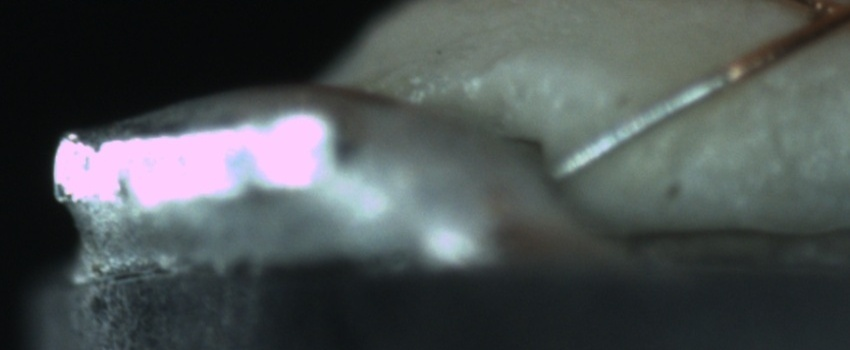TS: (546, 72, 731, 184)
